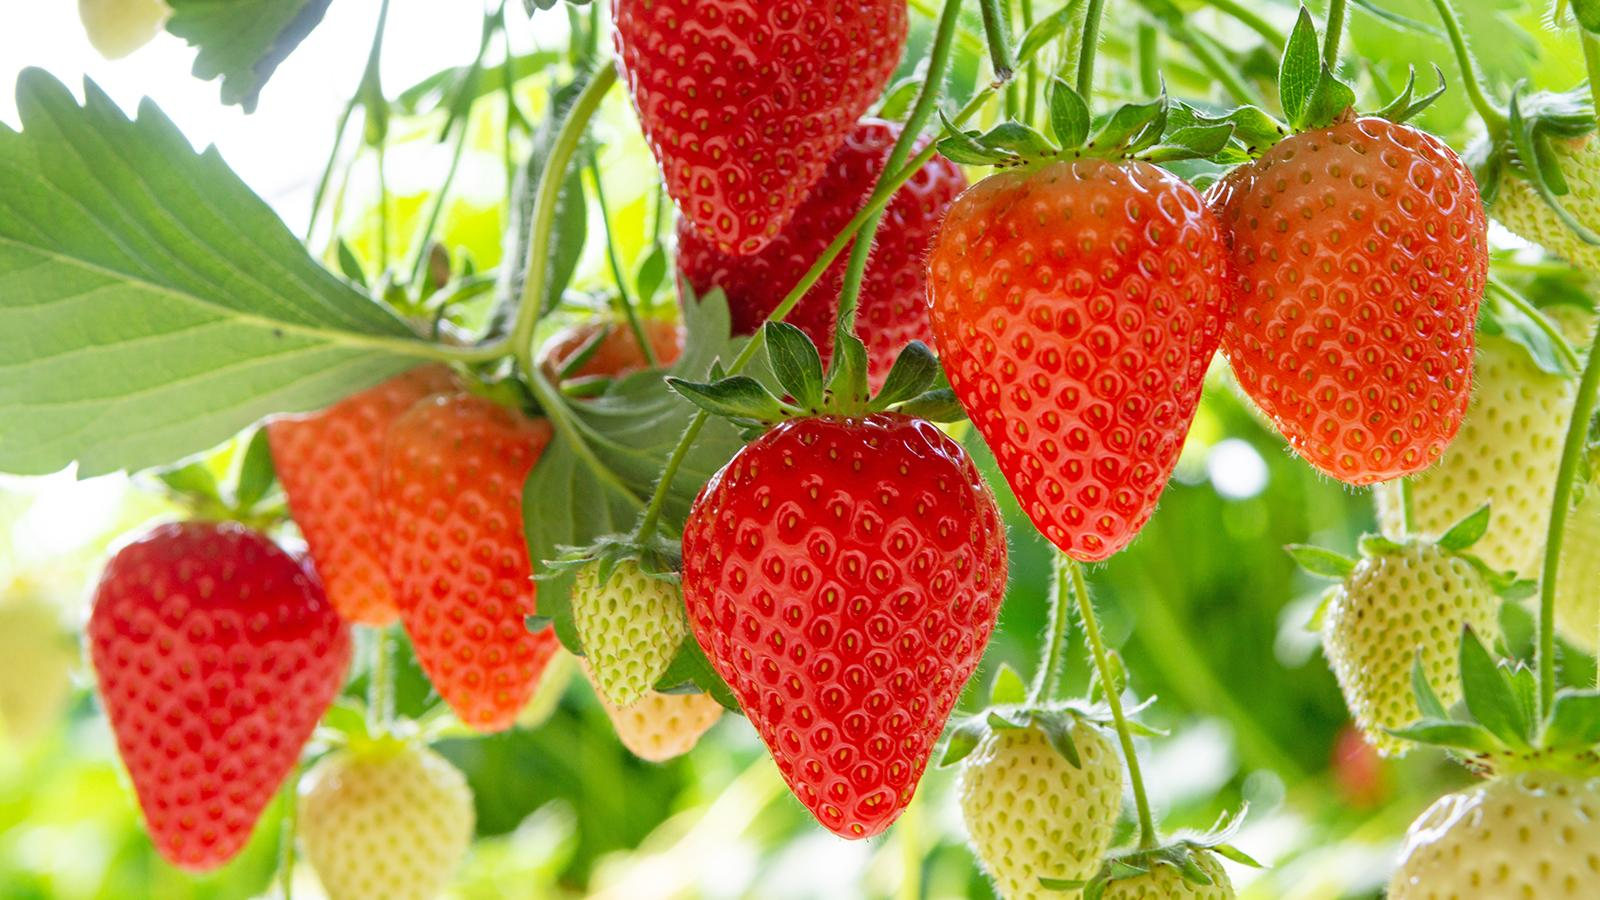strawberry: (654, 302, 1040, 868), (909, 80, 1232, 587), (1213, 0, 1530, 510), (71, 462, 370, 896), (587, 0, 923, 285), (360, 365, 580, 741)
